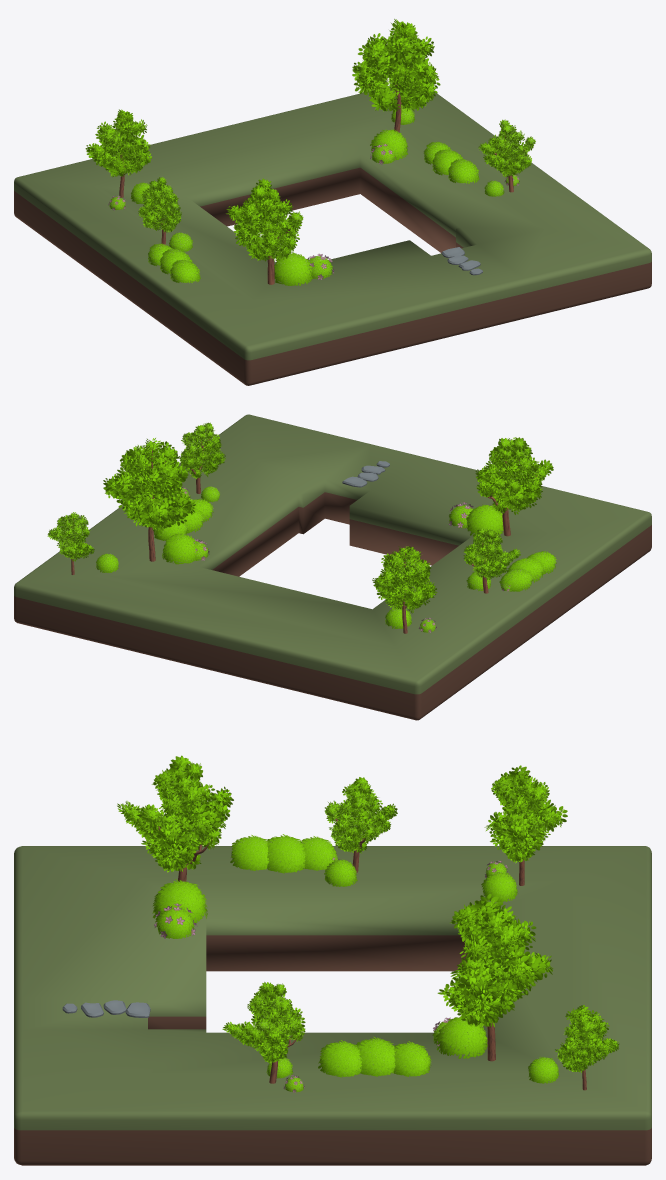
The model's file is env.glb.
3 views of the same model, one above another, from view 1: azimuth 30°, elevation 25°; view 2: azimuth 150°, elevation 25°; view 3: azimuth 270°, elevation 25° (orthographic). The views are drawn at different scales.
Parts seen in each view (by area): view 1: ENV_Grass_Ground, ENV_Tree_Tall_Foliage, ENV_Tree_Small_Foliage, ENV_Tree_BackLeft_Foliage, ENV_Tree_RightFront_Foliage, ENV_Tree_LeftEdge_Foliage, ENV_Bush_Left_Base, ENV_Bush_Right_Base, ENV_Hedge_Right_A, ENV_Hedge_Left_A; view 2: ENV_Grass_Ground, ENV_Tree_Tall_Foliage, ENV_Tree_Small_Foliage, ENV_Tree_BackLeft_Foliage, ENV_Tree_RightFront_Foliage, ENV_Tree_LeftEdge_Foliage, ENV_Tree_BackRight_Foliage, ENV_Bush_Right_Base, ENV_Bush_Left_Base, ENV_Hedge_Left_C, ENV_Hedge_Left_B, ENV_Bush_Left_Flowers; view 3: ENV_Grass_Ground, ENV_Tree_Tall_Foliage, ENV_Tree_Small_Foliage, ENV_Tree_BackLeft_Foliage, ENV_Tree_RightFront_Foliage, ENV_Tree_LeftEdge_Foliage, ENV_Tree_BackRight_Foliage, ENV_Bush_Right_Base, ENV_Bush_Left_Base, ENV_Hedge_Right_A, ENV_Hedge_Left_B, ENV_Hedge_Right_B (+7 smaller).
Boxes of the visible parts, left/top/right/bottom form: ENV_Grass_Ground: left=14, top=87, right=651, bottom=385; ENV_Tree_Tall_Foliage: left=352, top=19, right=440, bottom=112; ENV_Tree_Small_Foliage: left=225, top=178, right=303, bottom=261; ENV_Tree_BackLeft_Foliage: left=85, top=109, right=151, bottom=177; ENV_Tree_RightFront_Foliage: left=478, top=119, right=535, bottom=177; ENV_Tree_LeftEdge_Foliage: left=138, top=177, right=181, bottom=232; ENV_Bush_Left_Base: left=274, top=252, right=312, bottom=285; ENV_Bush_Right_Base: left=370, top=129, right=407, bottom=160; ENV_Hedge_Right_A: left=448, top=159, right=479, bottom=183; ENV_Hedge_Left_A: left=170, top=259, right=200, bottom=283; ENV_Grass_Ground: left=14, top=414, right=651, bottom=720; ENV_Tree_Tall_Foliage: left=103, top=438, right=195, bottom=534; ENV_Tree_Small_Foliage: left=475, top=437, right=553, bottom=514; ENV_Tree_BackLeft_Foliage: left=372, top=546, right=437, bottom=613; ENV_Tree_RightFront_Foliage: left=179, top=422, right=225, bottom=479; ENV_Tree_LeftEdge_Foliage: left=463, top=527, right=520, bottom=580; ENV_Tree_BackRight_Foliage: left=47, top=512, right=94, bottom=561; ENV_Bush_Right_Base: left=162, top=533, right=196, bottom=564; ENV_Bush_Left_Base: left=465, top=504, right=503, bottom=536; ENV_Hedge_Left_C: left=499, top=568, right=532, bottom=591; ENV_Hedge_Left_B: left=506, top=557, right=544, bottom=582; ENV_Bush_Left_Flowers: left=448, top=502, right=473, bottom=528; ENV_Grass_Ground: left=14, top=846, right=651, bottom=1165; ENV_Tree_Tall_Foliage: left=437, top=893, right=553, bottom=1028; ENV_Tree_Small_Foliage: left=117, top=755, right=233, bottom=872; ENV_Tree_BackLeft_Foliage: left=484, top=765, right=567, bottom=863; ENV_Tree_RightFront_Foliage: left=222, top=982, right=305, bottom=1063; ENV_Tree_LeftEdge_Foliage: left=324, top=777, right=397, bottom=853; ENV_Tree_BackRight_Foliage: left=555, top=1005, right=619, bottom=1072; ENV_Bush_Right_Base: left=435, top=1016, right=487, bottom=1058; ENV_Bush_Left_Base: left=152, top=879, right=207, bottom=922; ENV_Hedge_Right_A: left=318, top=1040, right=362, bottom=1077; ENV_Hedge_Left_B: left=267, top=834, right=306, bottom=873; ENV_Hedge_Right_B: left=355, top=1036, right=395, bottom=1076.
Size of the model in its own units: 27.67 by 10.79 by 27.67.
Materials: 9 (7 with a texture image).
